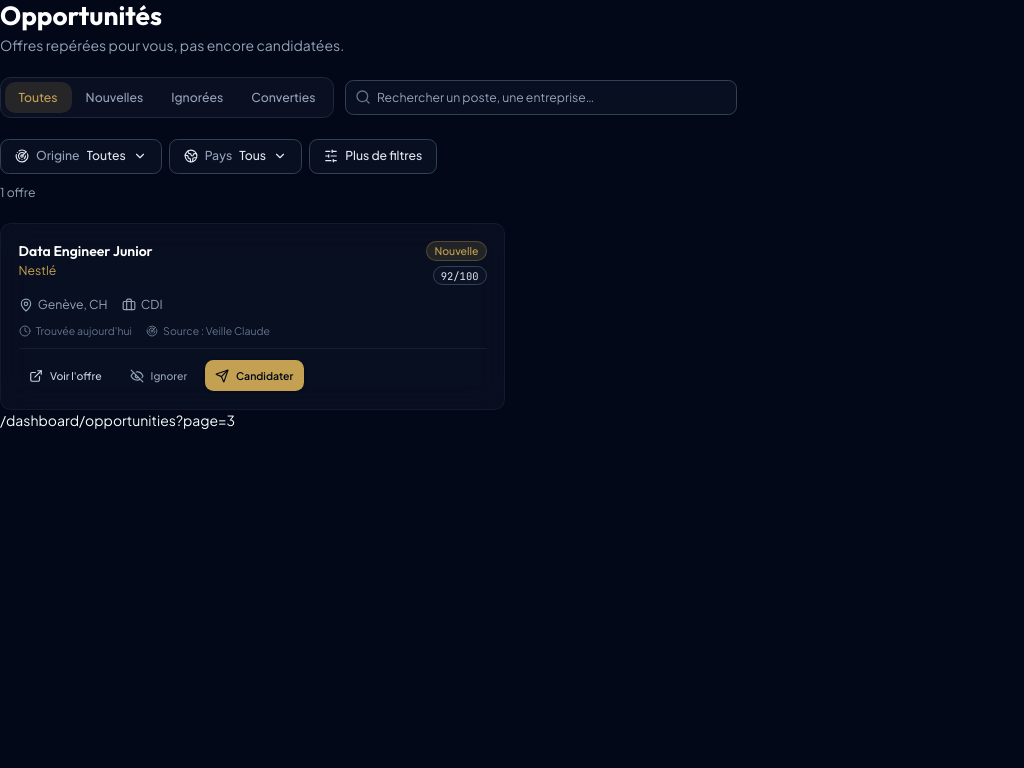
Test case: Opportunités — filtres et URL › filtre rapide Origine (sélection multiple) : URL mise à jour, retour en page 1
Click the button with test id "filter-origin-trigger" at (81, 156), box [0,138,162,174]
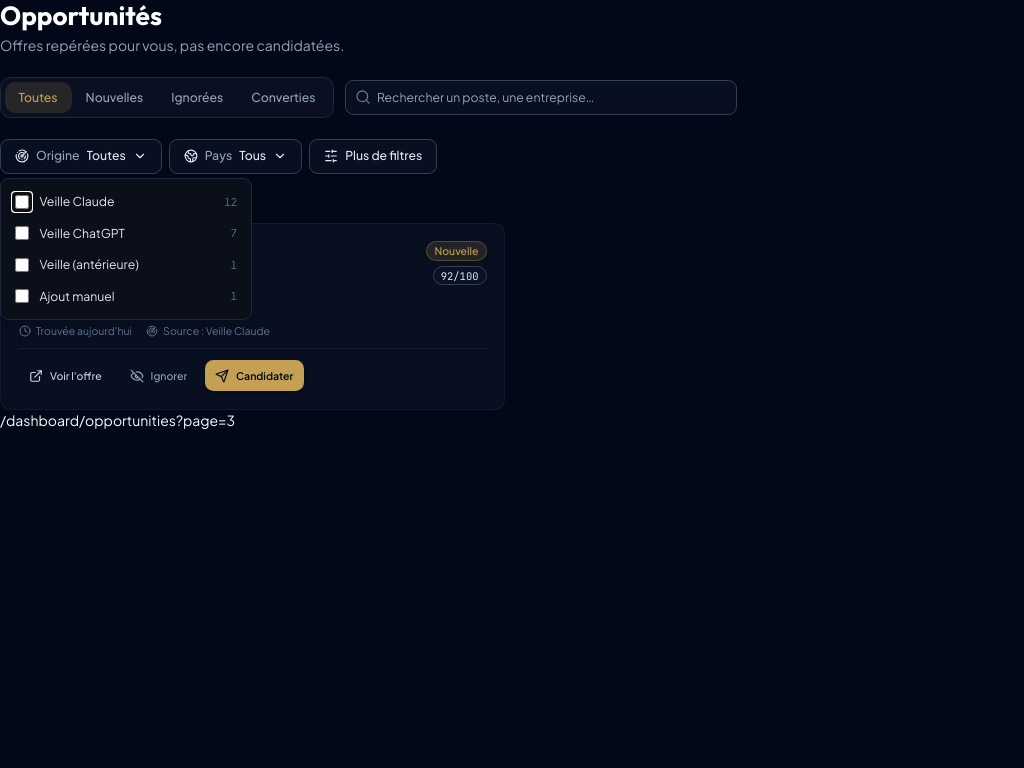
Expected: the text "Veille ChatGPT" is shown, [40,224,125,240]
Expected: the text "Veille (antérieure)" is shown, [40,256,139,272]
Click the checkbox labelled "Veille Claude 12" at (22, 202), box [15,195,29,209]
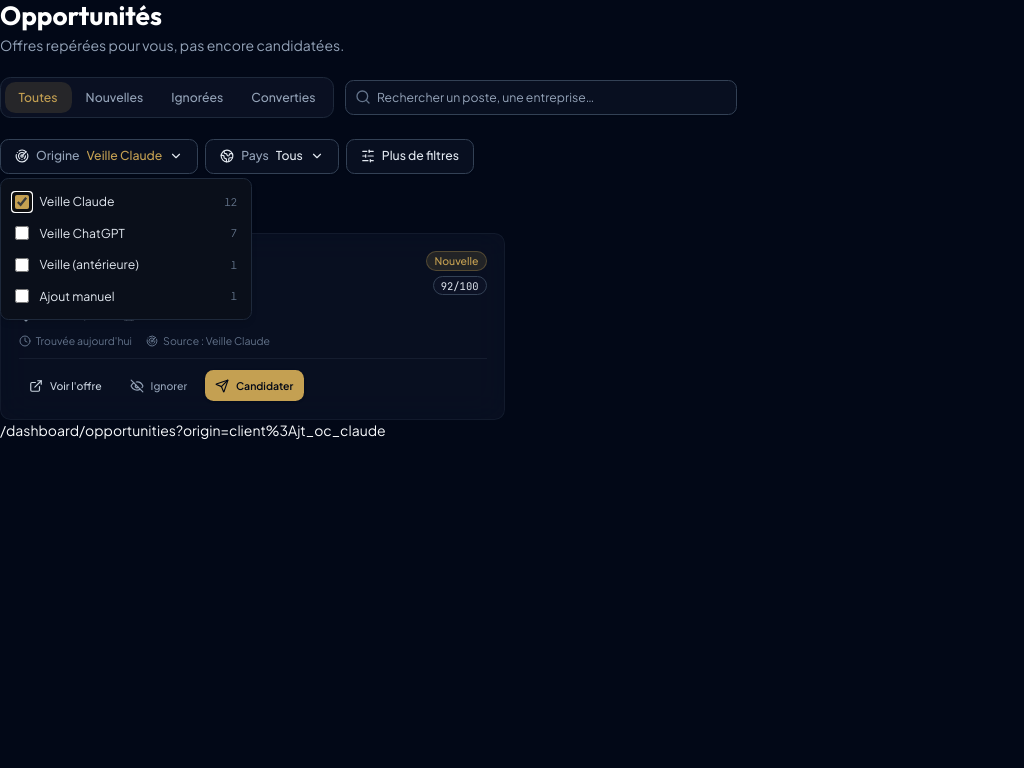
Click the checkbox labelled "Veille ChatGPT 7" at (22, 233), box [15,226,29,240]
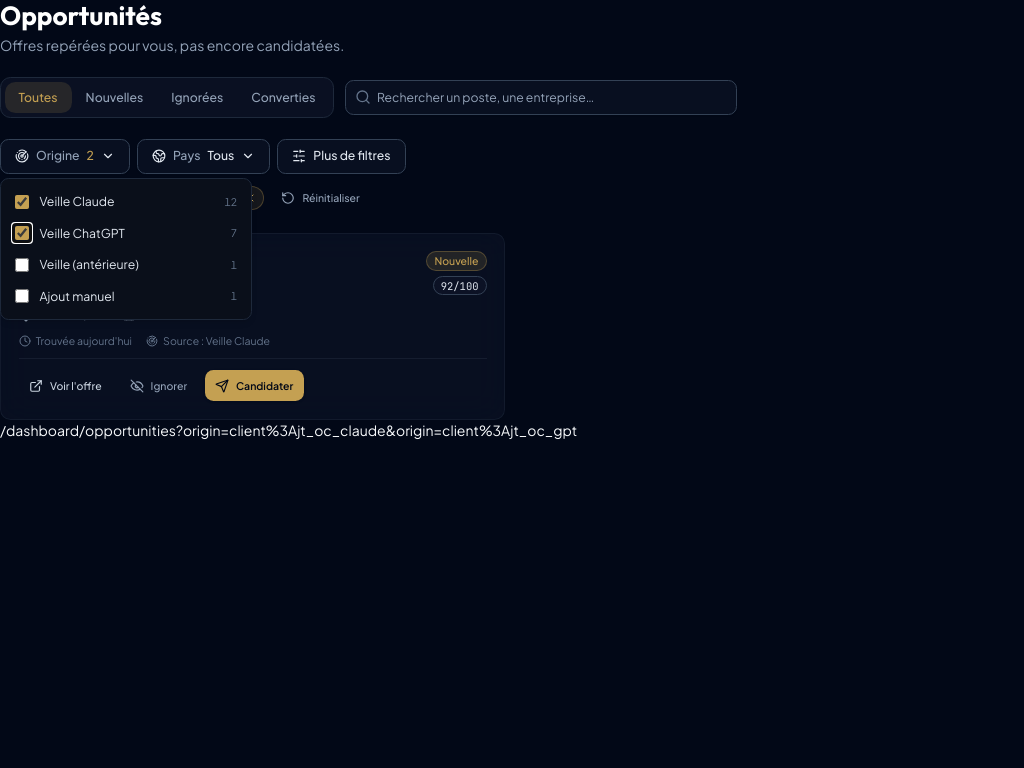
Expected: the button with test id "filter-origin-trigger" shows "2", [0,138,130,174]
